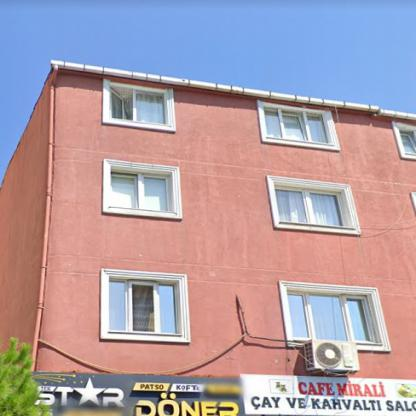window: (287, 291, 374, 342), (109, 278, 178, 334), (274, 187, 344, 226), (262, 106, 330, 144), (110, 169, 169, 212), (108, 84, 167, 126), (399, 128, 415, 154)
